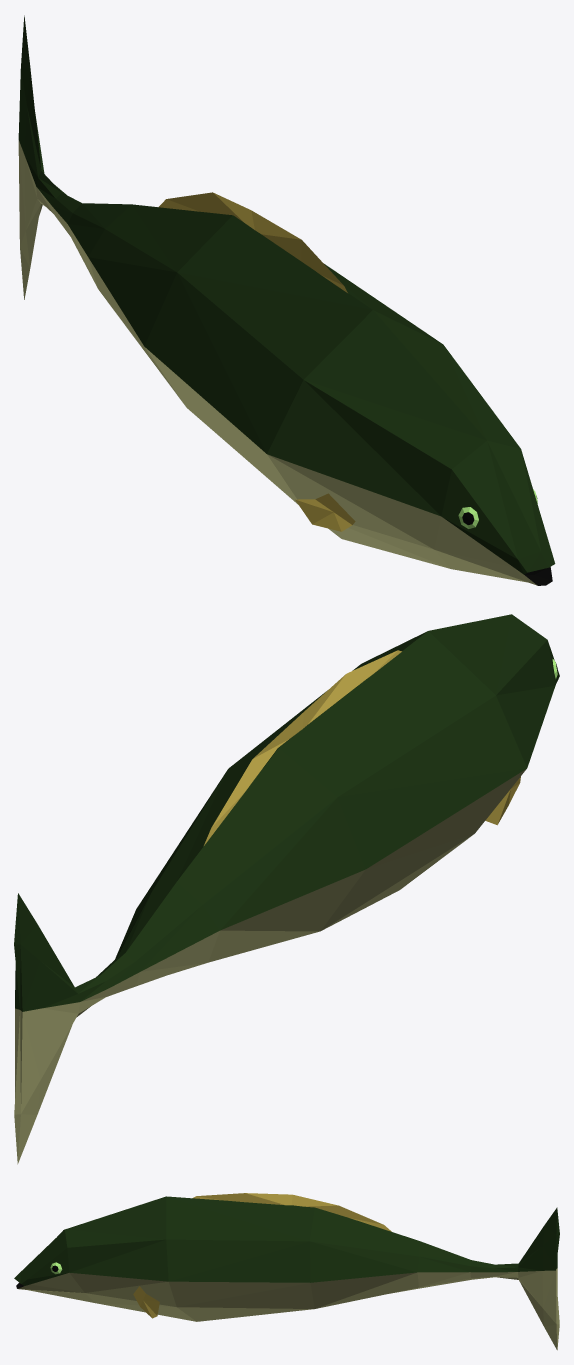
File: Minnnow_ioexperment_000014.obj
3 renders of one model, top to bottom at view 1: azimuth 30°, elevation 25°; view 2: azimuth 150°, elevation 25°; view 3: azimuth 270°, elevation 25°, orthographic. The views are drawn at different scales.
Bounding box in the file's own units: 0.7038 × 0.9146 × 3.03.
